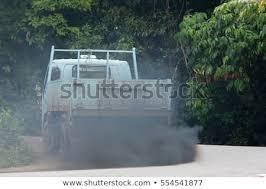smoke: (16, 76, 205, 170)
